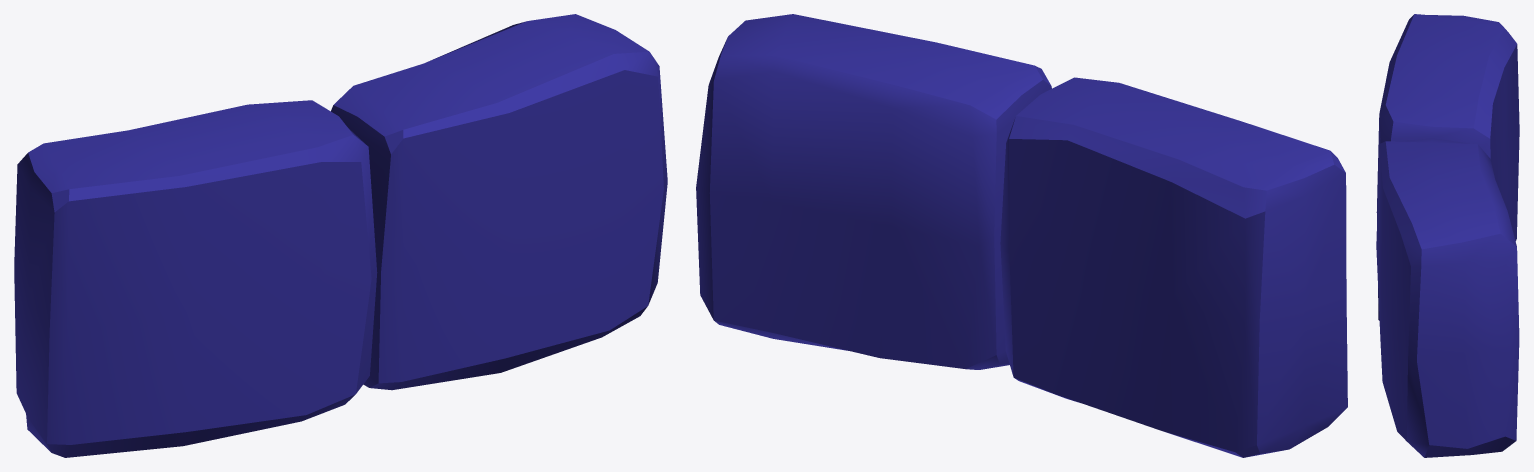
File: Ancient_Stone_Bending_02.fbx
The picture shows the model from 3 angles, left to right: view 1: azimuth 30°, elevation 25°; view 2: azimuth 150°, elevation 25°; view 3: azimuth 270°, elevation 25°; orthographic projection. The views are drawn at different scales.
Visible parts, largest first — view 1: r2, r1; view 2: r2, r1; view 3: r1, r2.
Boxes of the visible parts, x1,y1,x2,y2 form: r2: (14, 100, 377, 457); r1: (331, 14, 667, 390); r2: (1000, 77, 1347, 457); r1: (696, 14, 1051, 369); r1: (1376, 138, 1519, 457); r2: (1376, 14, 1519, 320).
Size of the model in its own units: 924 by 231 by 409.
